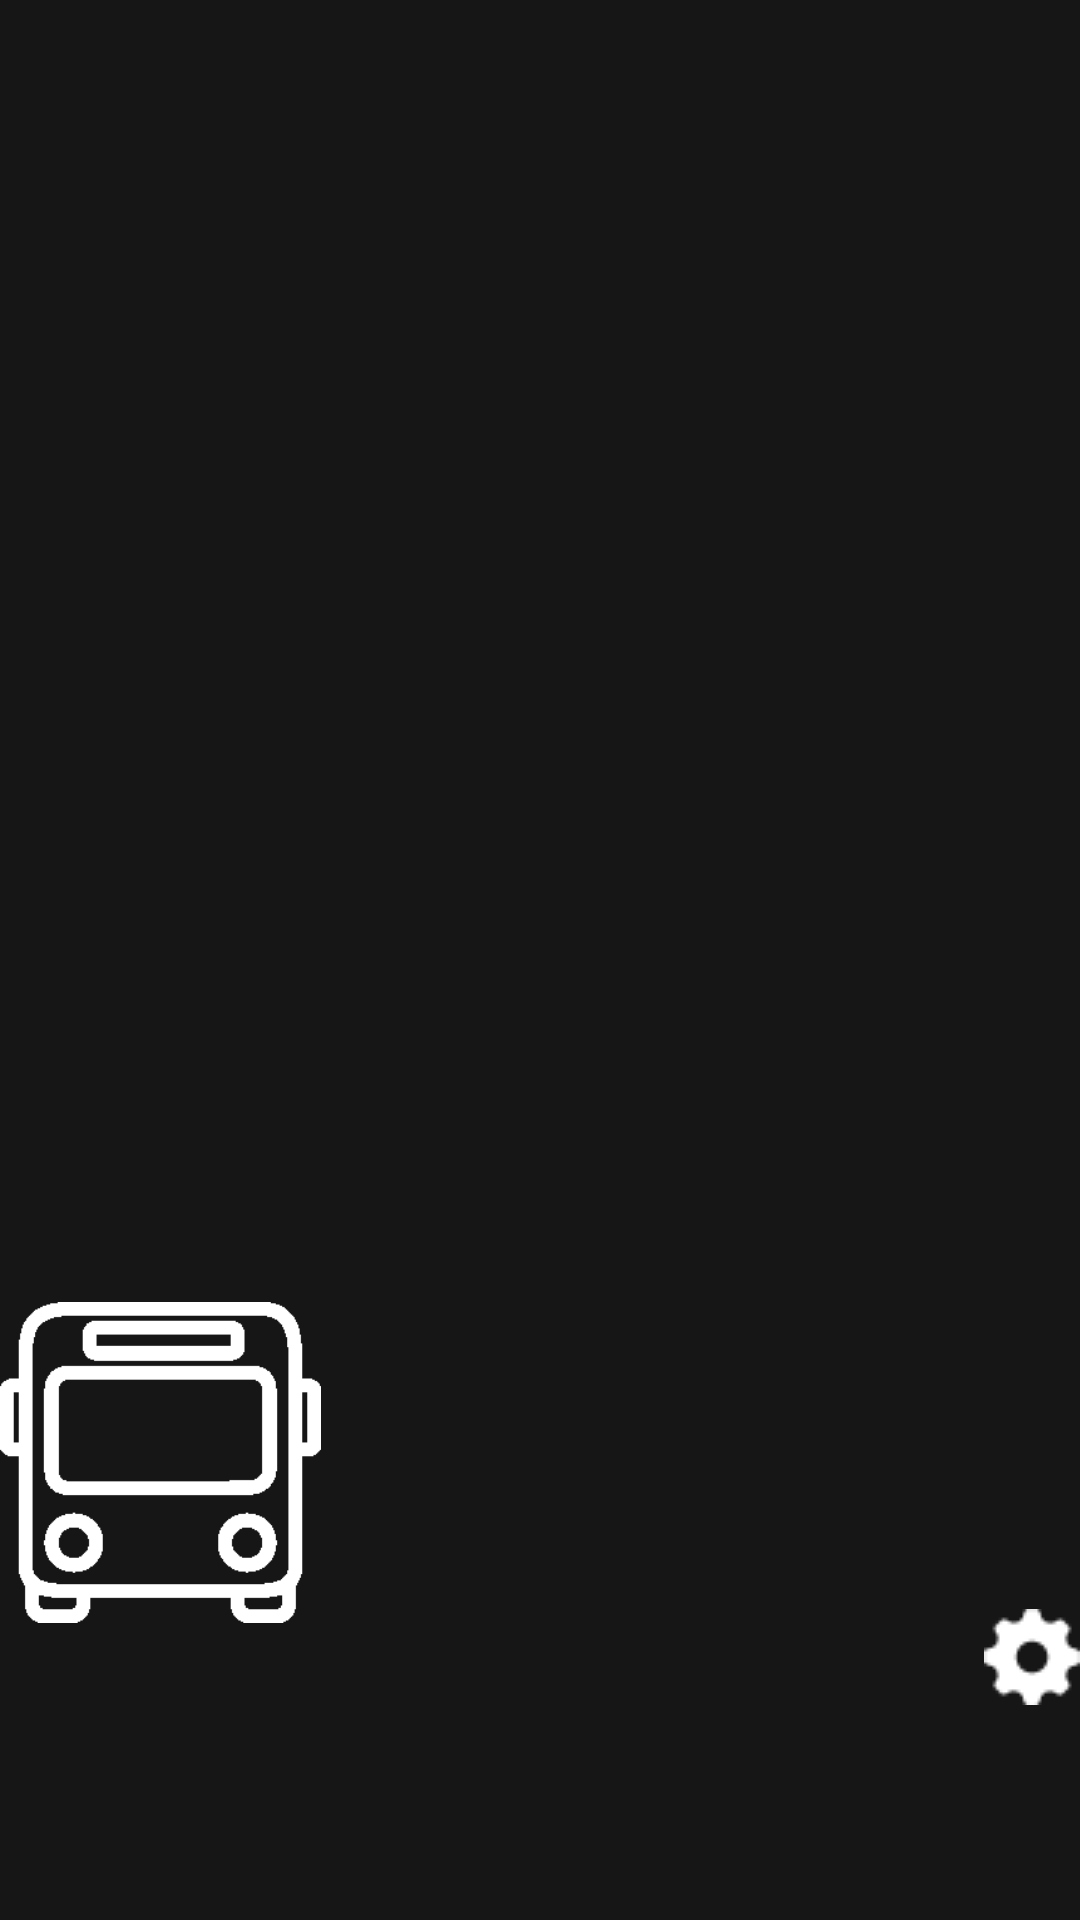

Where icons sit on this 1080px×1920px app screen, as (x1, y1, x2, y2):
busimage: (0, 1302, 321, 1623)
setting: (984, 1609, 1080, 1705)
